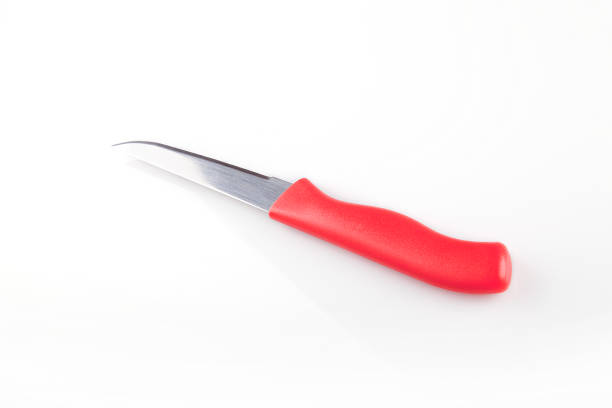knife: (108, 139, 515, 297)
